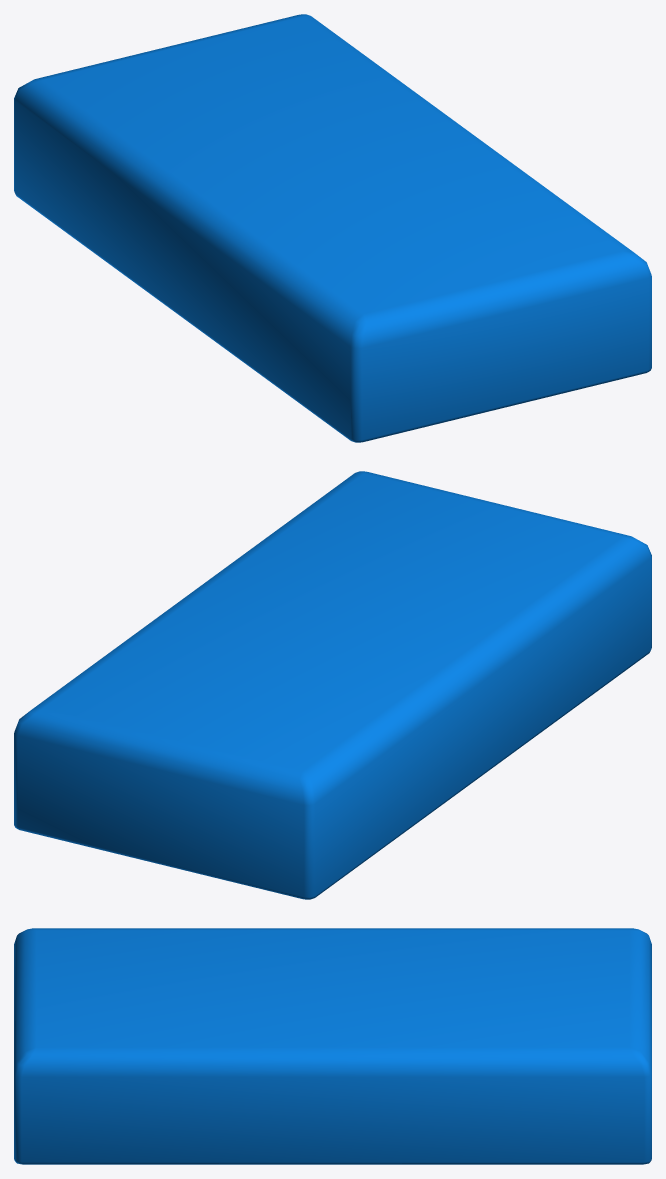
Rendered from MicroPipeteBox_Lid.002.fbx.
3 renders of one model, top to bottom at view 1: azimuth 30°, elevation 25°; view 2: azimuth 150°, elevation 25°; view 3: azimuth 270°, elevation 25°, orthographic. The views are drawn at different scales.
Visible parts, largest first — view 1: GEO_MicroPipeteBox_Lid; view 2: GEO_MicroPipeteBox_Lid; view 3: GEO_MicroPipeteBox_Lid.
Part boxes in pixels (<box>): GEO_MicroPipeteBox_Lid: <box>14,14,651,442</box>; GEO_MicroPipeteBox_Lid: <box>14,471,651,899</box>; GEO_MicroPipeteBox_Lid: <box>14,928,651,1164</box>.
Bounding box in the file's own units: 160 × 60.01 × 317.
